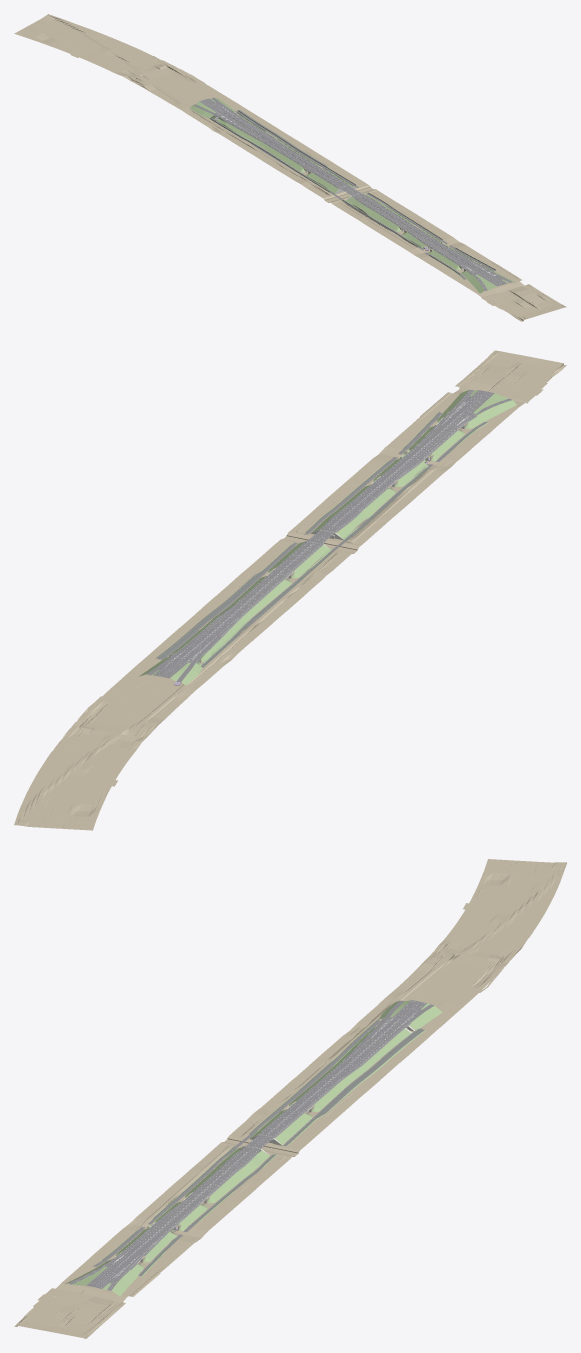
3 renders of one model, top to bottom at view 1: azimuth 30°, elevation 25°; view 2: azimuth 150°, elevation 25°; view 3: azimuth 330°, elevation 25°, orthographic. The views are drawn at different scales.
Visible parts, largest first — view 1: model; view 2: model; view 3: model.
Boxes of the visible parts, x1,y1,x2,y2 form: model: (14, 14, 566, 321); model: (14, 350, 566, 830); model: (14, 859, 566, 1338).
Size of the model in its own units: 279 by 32.03 by 1548.
